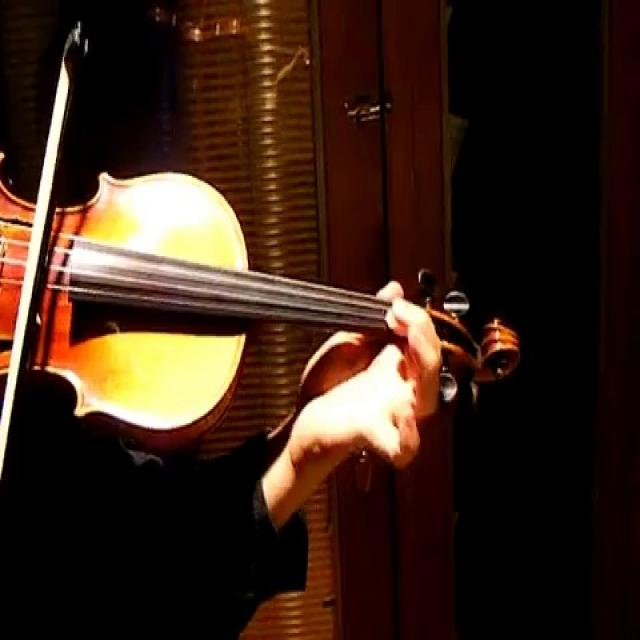Violin: (5, 149, 523, 437)
